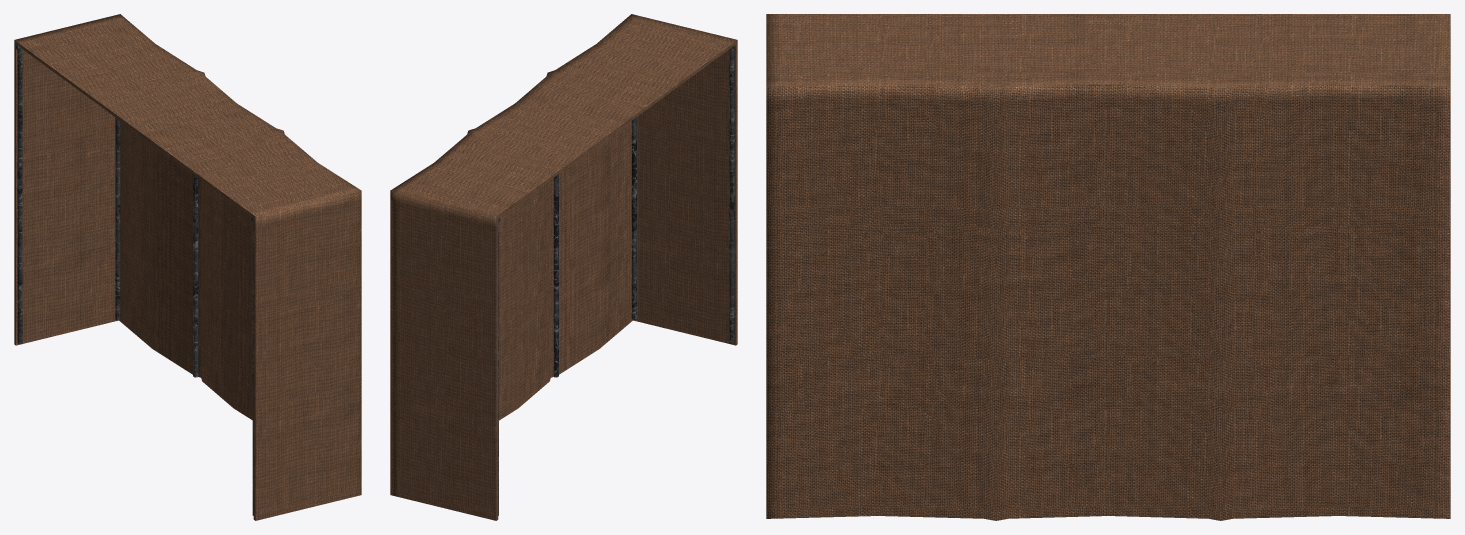
Rendered from BuildingC_Awning_mdl.fbx.
The picture shows the model from 3 angles, left to right: view 1: azimuth 30°, elevation 25°; view 2: azimuth 150°, elevation 25°; view 3: azimuth 270°, elevation 25°; orthographic projection. The views are drawn at different scales.
Visible parts, largest first — view 1: BuildingC_Awning_LOD0; view 2: BuildingC_Awning_LOD0; view 3: BuildingC_Awning_LOD0.
Boxes of the visible parts, x1,y1,x2,y2 form: BuildingC_Awning_LOD0: (14,14,361,520); BuildingC_Awning_LOD0: (390,14,737,520); BuildingC_Awning_LOD0: (766,14,1450,520).
Size of what is drawn, in the model's own units: 53.03 by 141 by 203.
